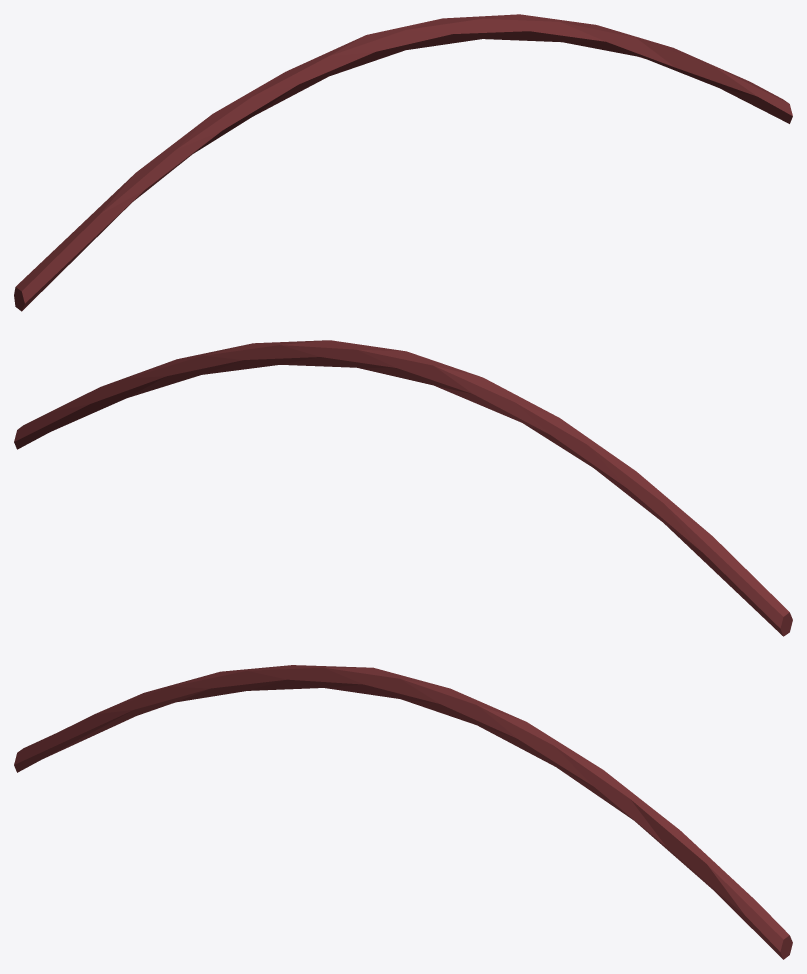
File: ropeSection_m.glb
3 renders of one model, top to bottom at view 1: azimuth 30°, elevation 25°; view 2: azimuth 150°, elevation 25°; view 3: azimuth 330°, elevation 25°, orthographic.
Visible parts, largest first — view 1: Cylinder; view 2: Cylinder; view 3: Cylinder.
Part boxes in pixels (x1,y1,x2,y2): Cylinder: [14, 14, 792, 311]; Cylinder: [14, 340, 792, 636]; Cylinder: [14, 665, 792, 959].
Bounding box in the file's own units: 0.7187 × 0.1681 × 0.0208.
